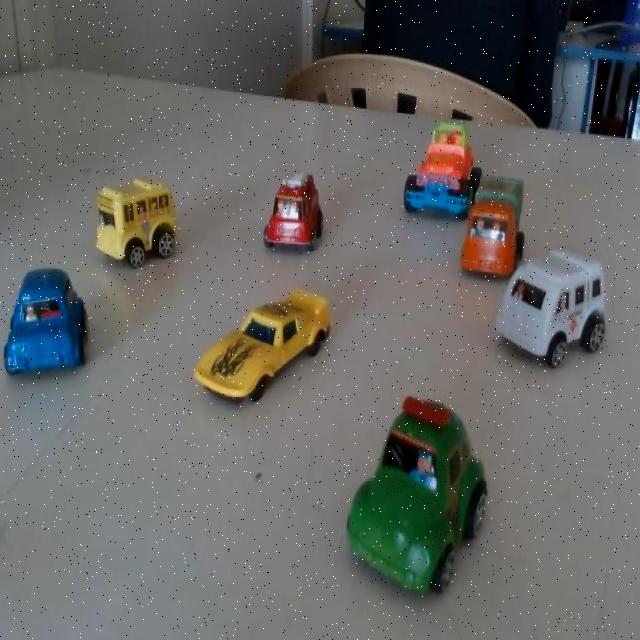car: (341, 398, 500, 589), (195, 282, 336, 411), (491, 235, 612, 384), (0, 267, 88, 382), (99, 177, 186, 278), (392, 115, 476, 219), (461, 168, 528, 284), (264, 163, 336, 267)
